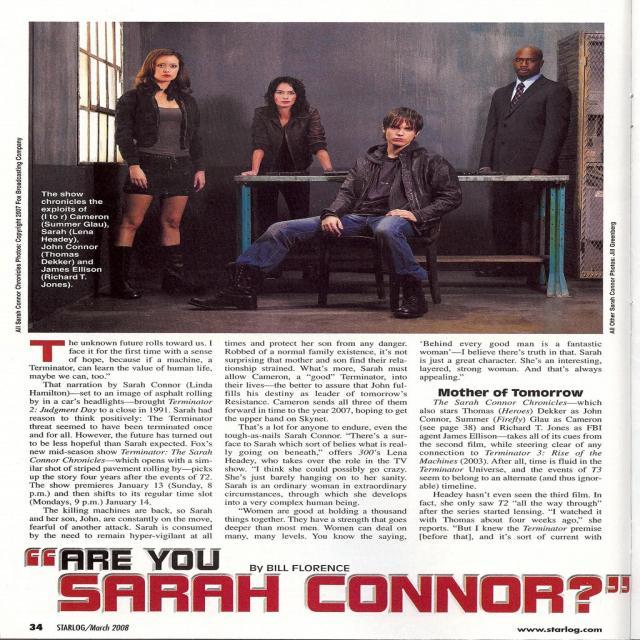nomask: (386, 119, 414, 146), (513, 49, 539, 76), (153, 55, 178, 81), (274, 83, 296, 107)
